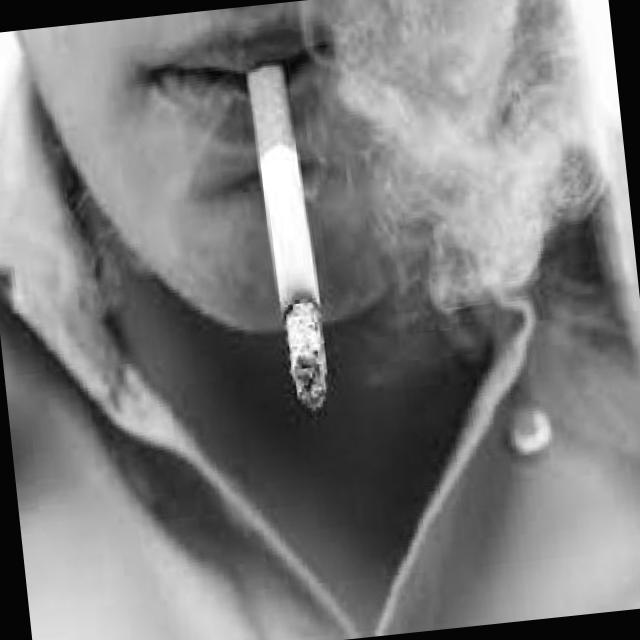smoke: (240, 54, 340, 424)
